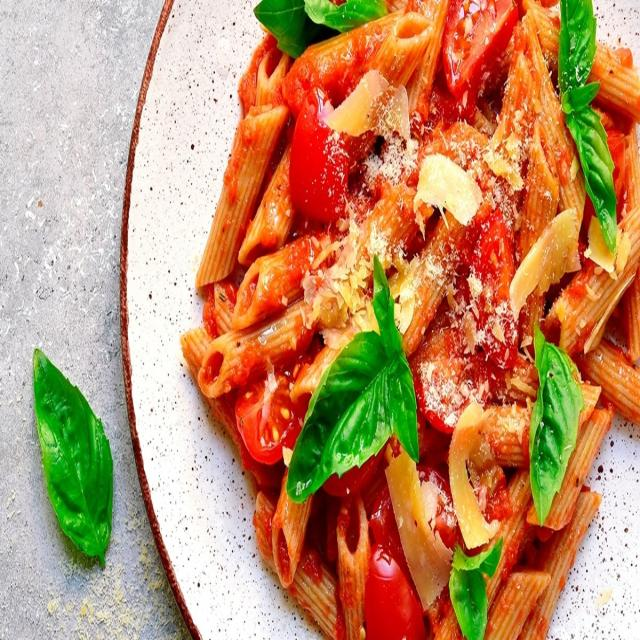pasta: (173, 1, 639, 637)
